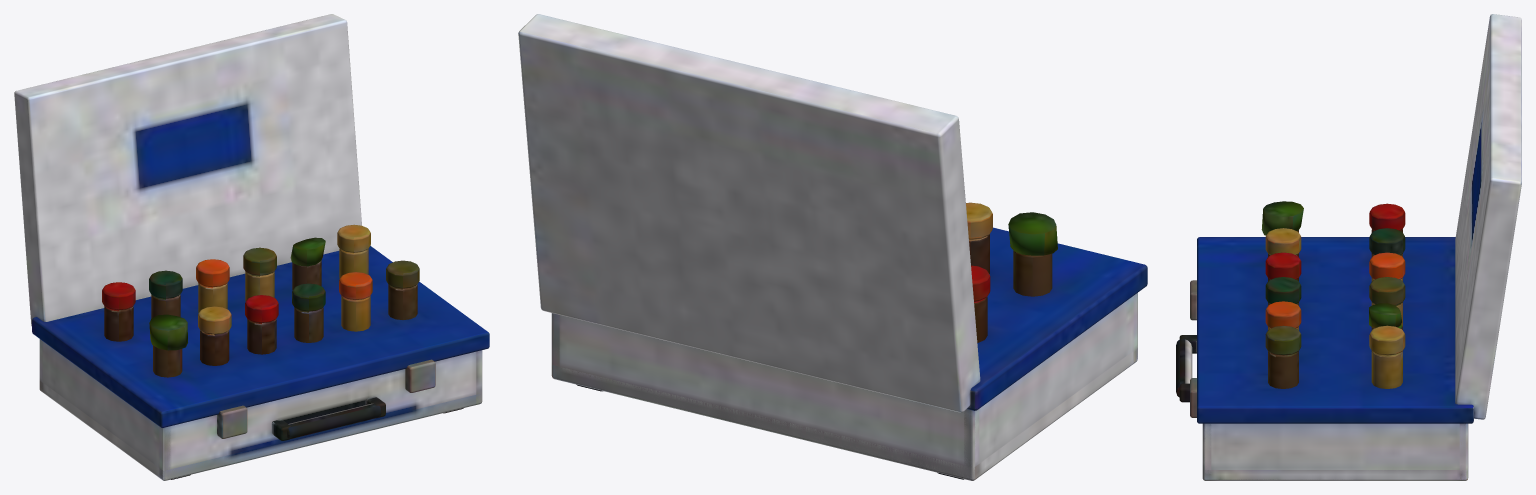
File: seed_case.glb
3 renders of one model, left to right at view 1: azimuth 30°, elevation 25°; view 2: azimuth 150°, elevation 25°; view 3: azimuth 270°, elevation 25°, orthographic. The views are drawn at different scales.
Parts seen in each view (by area): view 1: seed_case; view 2: seed_case; view 3: seed_case.
Boxes of the visible parts, <box> form: seed_case: <box>14,14,489,480</box>; seed_case: <box>518,14,1147,480</box>; seed_case: <box>1176,14,1521,480</box>.
Bounding box in the file's own units: 0.35 × 0.2955 × 0.2995.
1 material, 1 textured.
